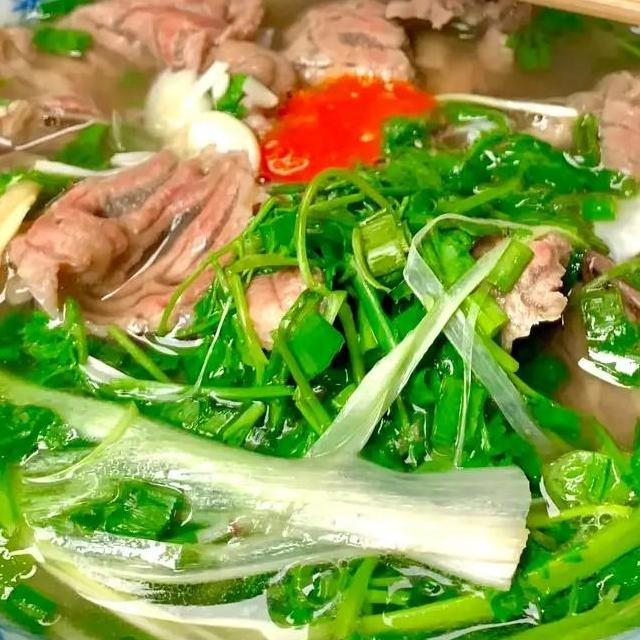thit bo: (409, 61, 640, 365), (0, 135, 285, 346), (0, 0, 280, 187), (503, 238, 640, 490), (275, 0, 543, 115)
